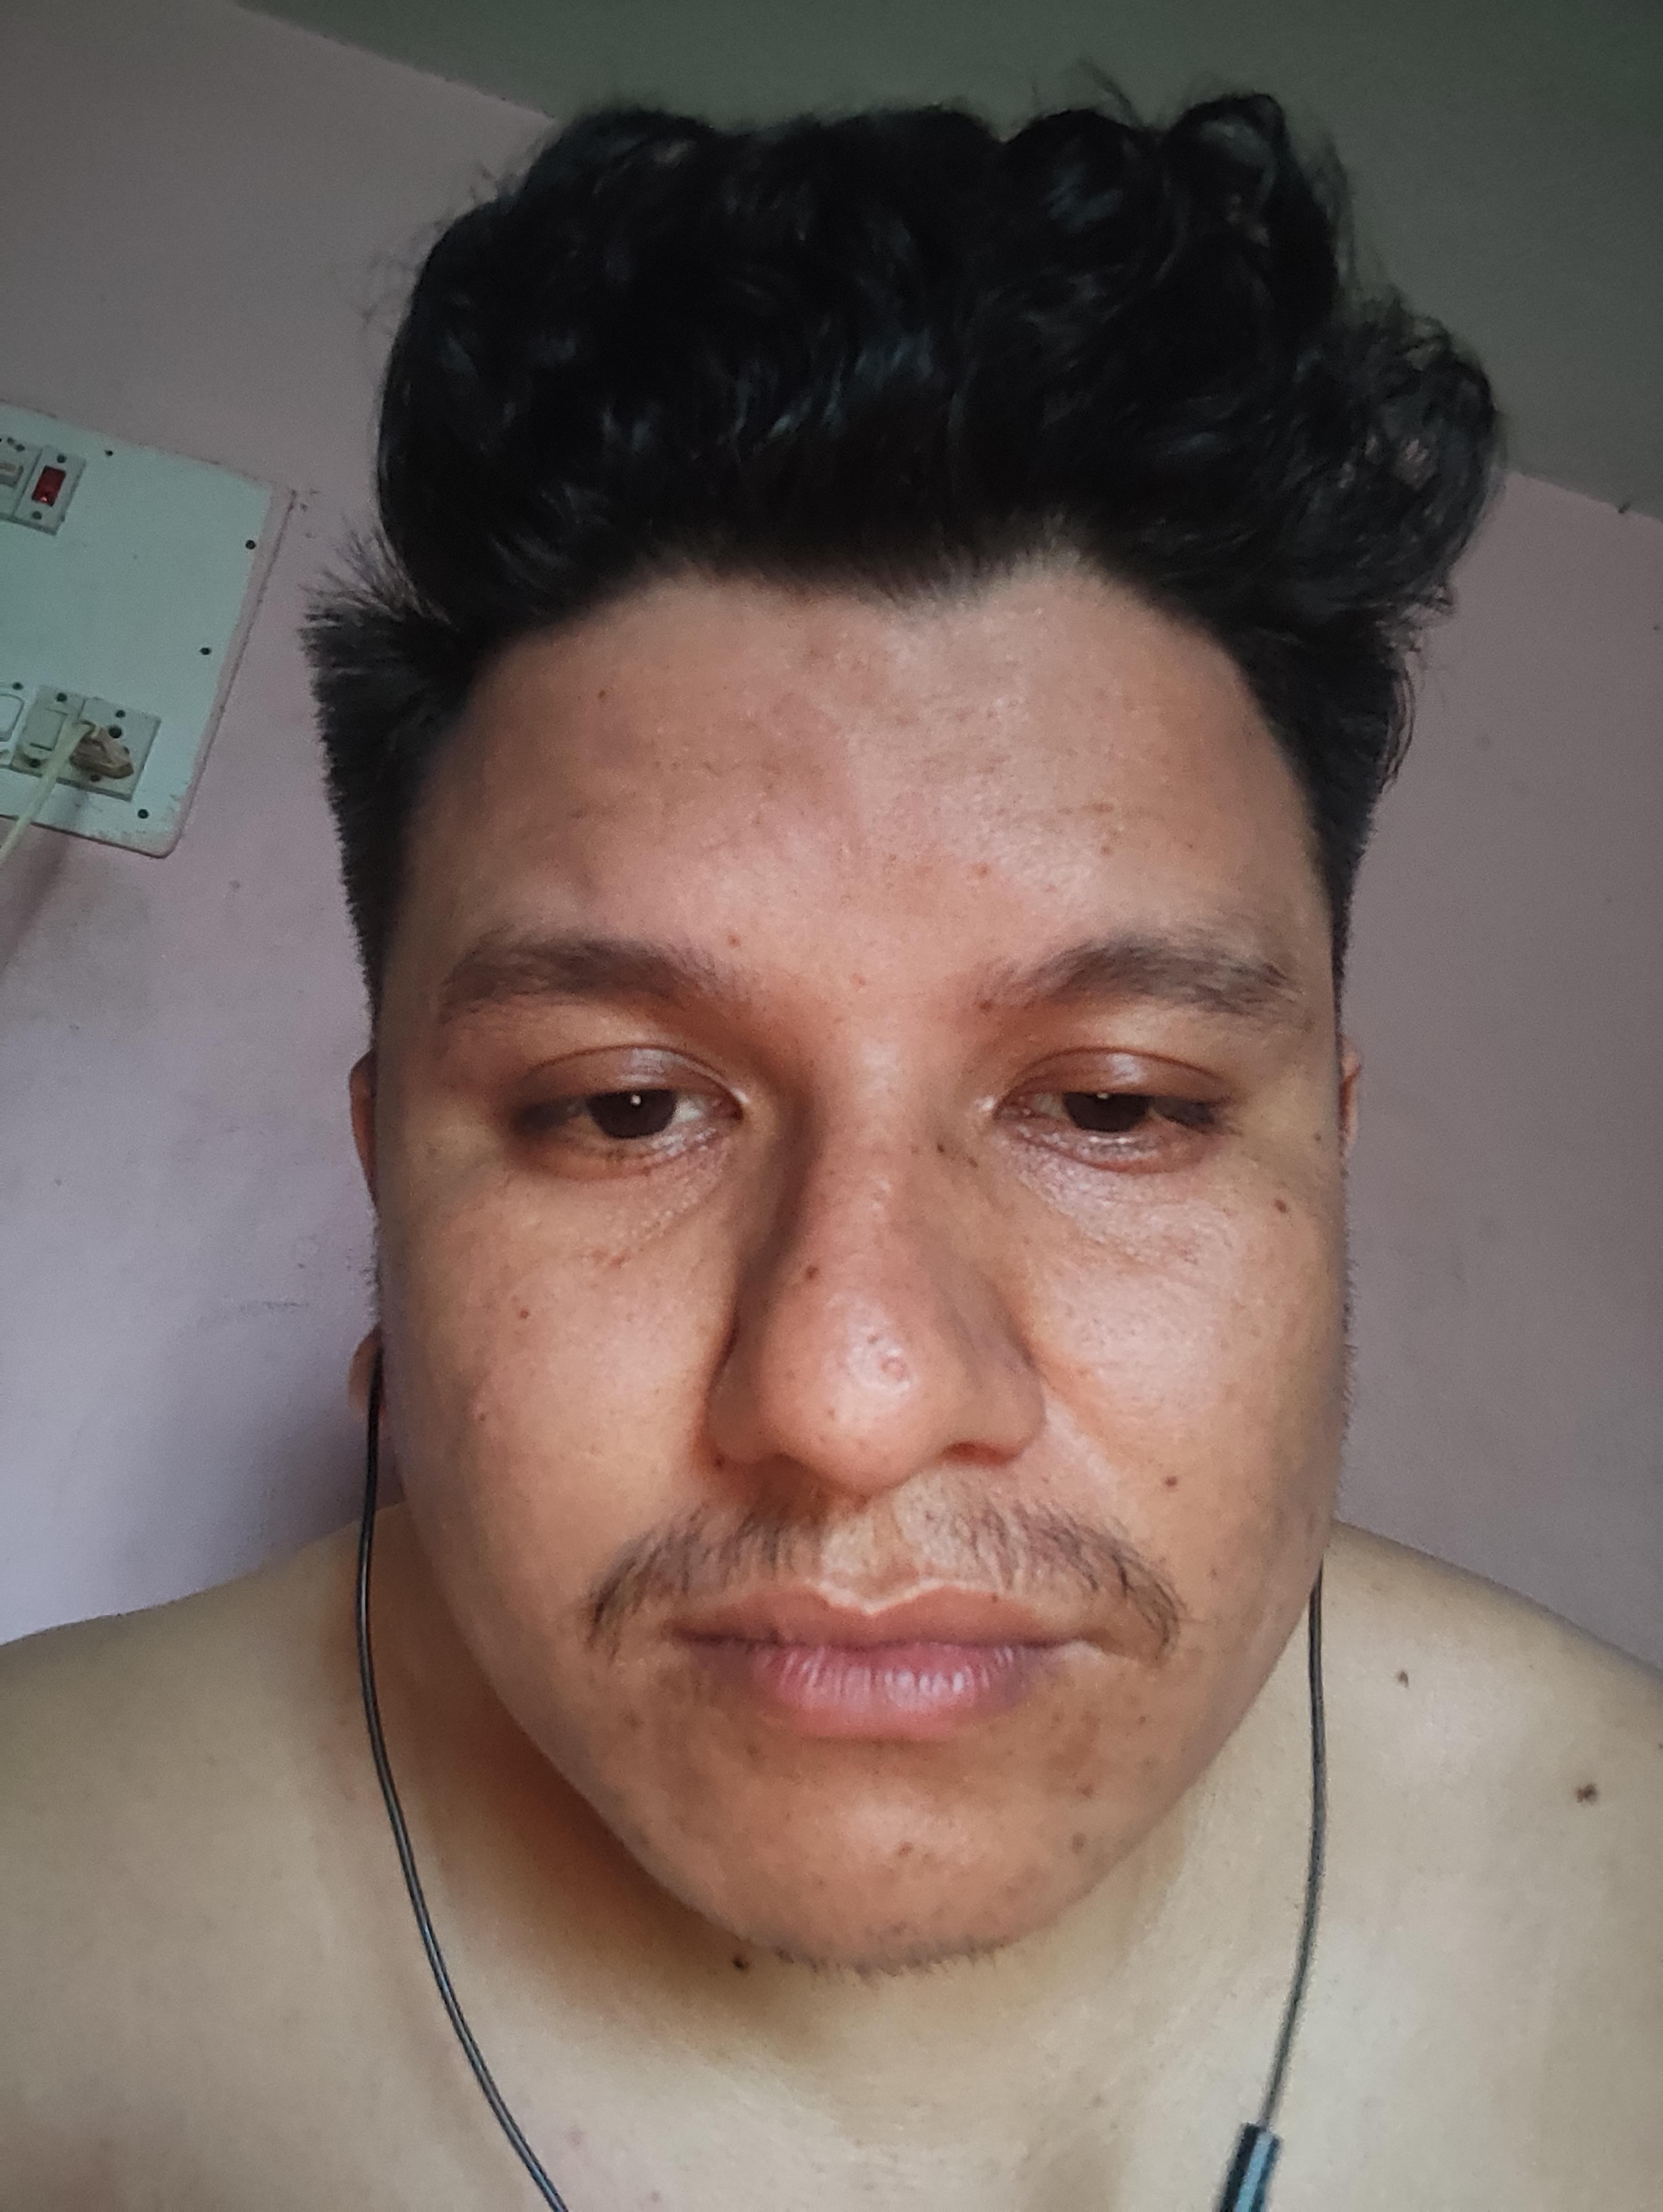Acne: (978, 793, 1177, 831), (1046, 1699, 1102, 1779), (800, 1402, 879, 1454), (1052, 1299, 1118, 1346), (873, 1346, 917, 1390), (805, 1859, 845, 1893), (617, 1707, 660, 1735), (1062, 1826, 1095, 1858), (1073, 1779, 1102, 1814), (884, 1913, 922, 1938), (721, 925, 746, 960), (887, 1838, 922, 1861), (968, 857, 997, 883)
Englarged-Pores: (466, 1402, 493, 1435)
Eyebags: (486, 1116, 751, 1259), (989, 1116, 1244, 1262)
